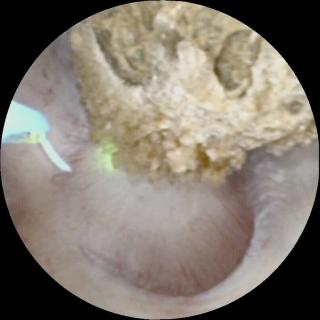fiber: (4, 105, 45, 142)
laser: (101, 147, 113, 166), (27, 133, 39, 142)
stone: (68, 5, 314, 184)
tissue: (6, 47, 312, 306)
